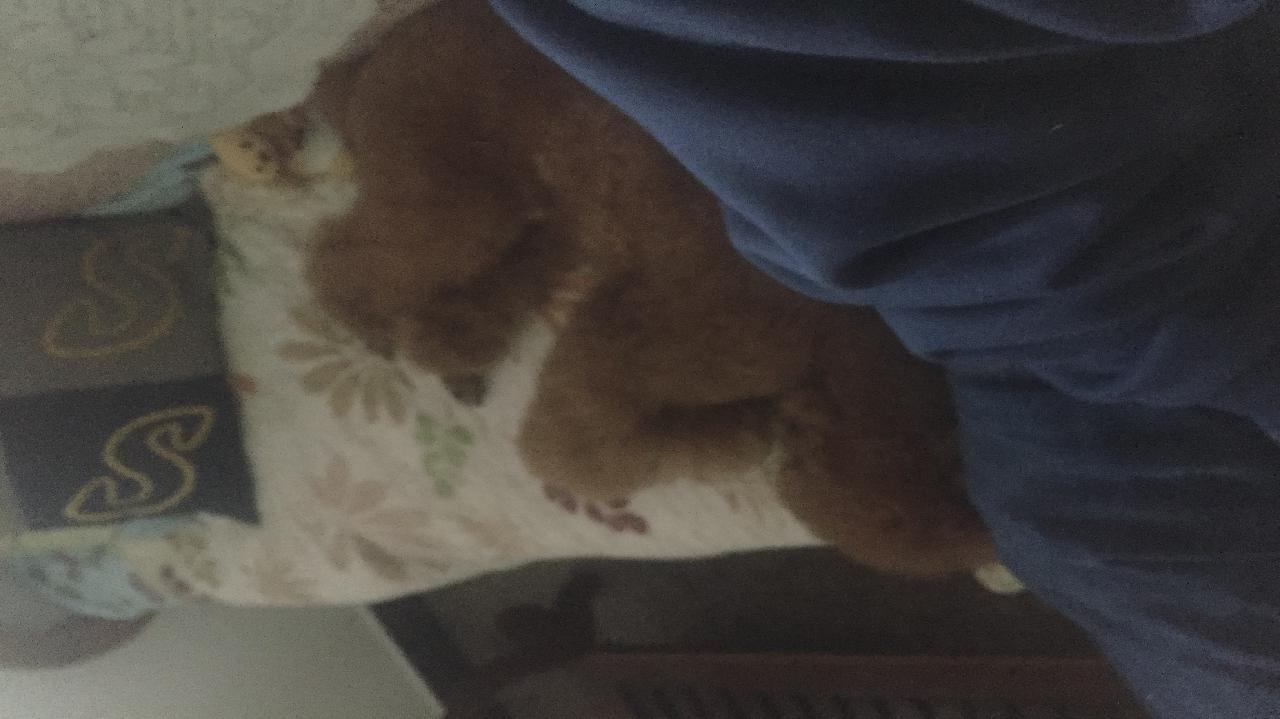zhuangzhuang: (313, 26, 1007, 605)
